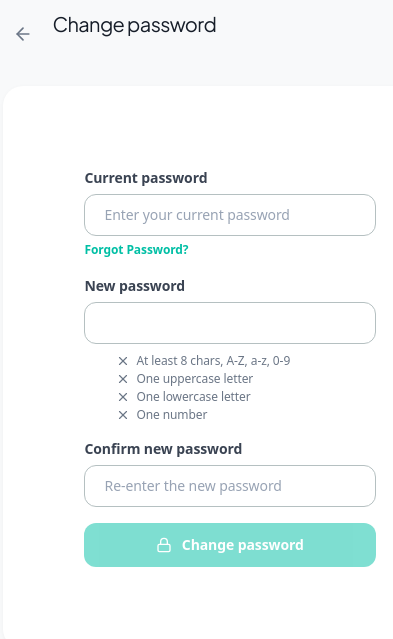
Test case: ChangePassword › shows the server's own message on a wrong current password, and stays
The image size is (393, 639).
Type "Wrong123" into the password field with test id "password-current" at x=230, y=215, box [84,194,376,236]
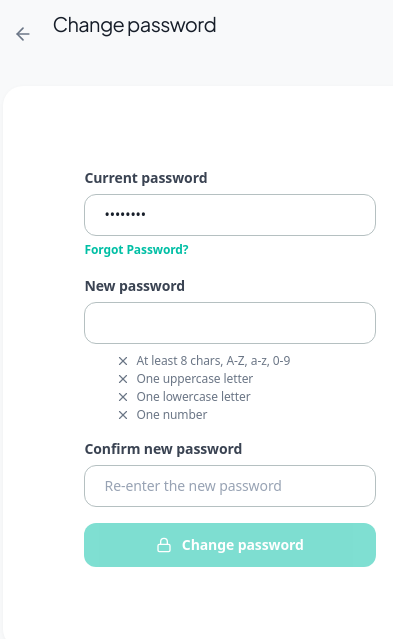
Type "NewPass1" into the password field with test id "password-new" at x=230, y=323, box [84,302,376,344]
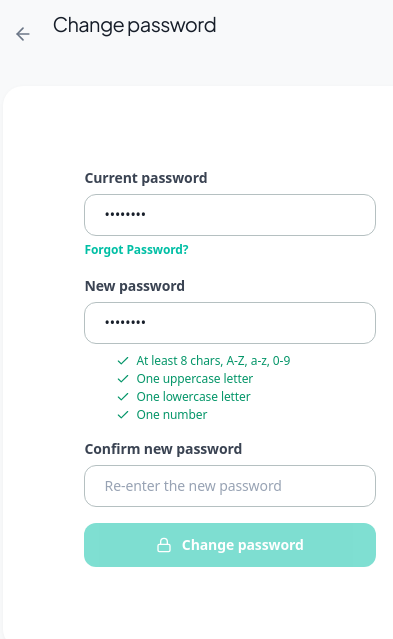
Type "NewPass1" into the password field with test id "password-confirm" at x=230, y=486, box [84,465,376,507]
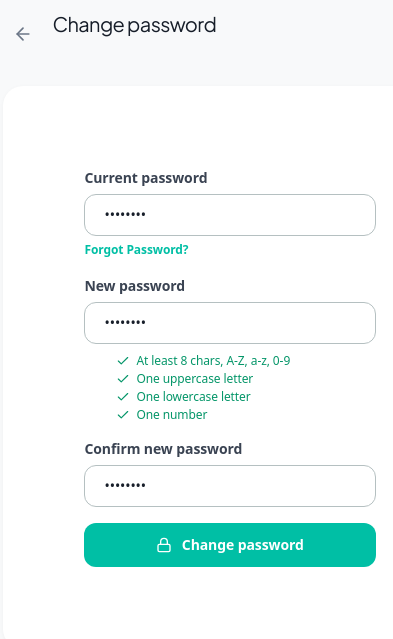
Click the button with test id "password-save" at x=230, y=545, box [84,523,376,567]
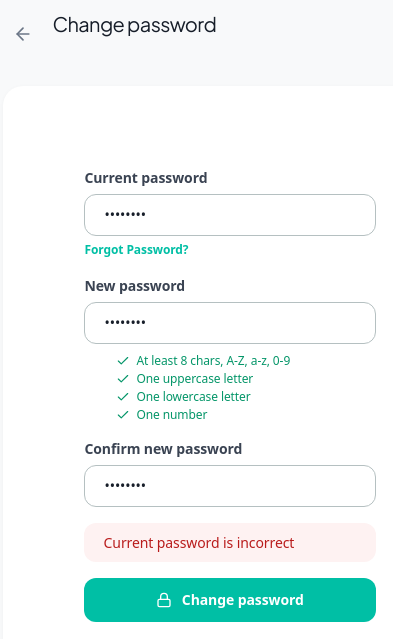
Check: the message with test id "password-error" reads "Current password is incorrect", box [104,533,294,552]
